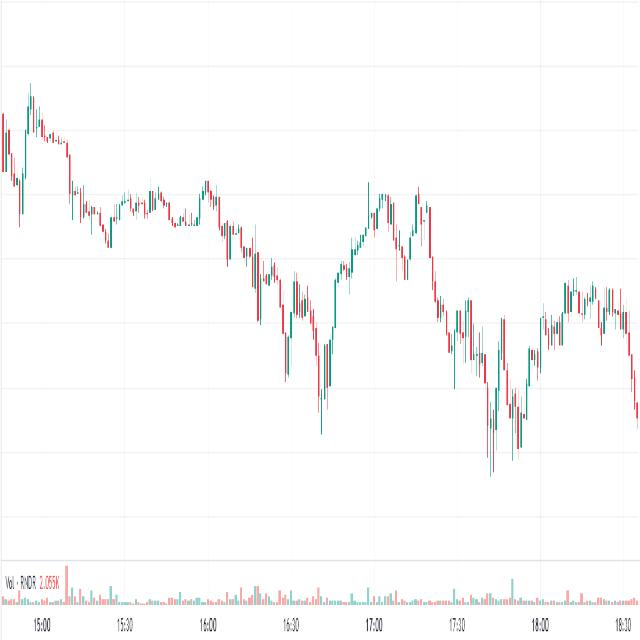Rounding-Top: (522, 271, 640, 431)
